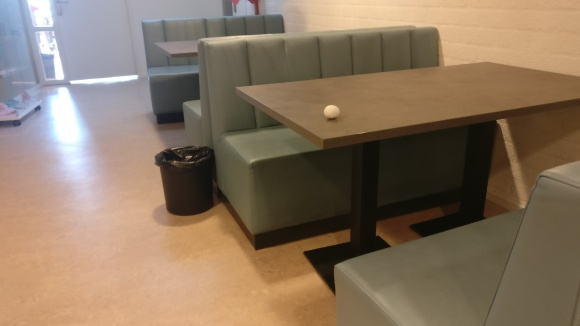egg: (323, 104, 341, 119)
